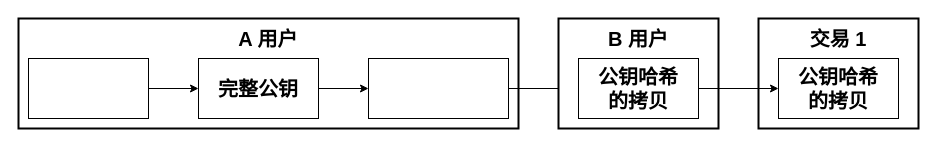
This 945x146 diagram has some shape labels left out. Here are the shapes that lost their labels. From the top down, the centre of each, then its label:
At pixel 88 88: "私钥".
At pixel 438 88: "公钥哈希 （钱包地址）".
